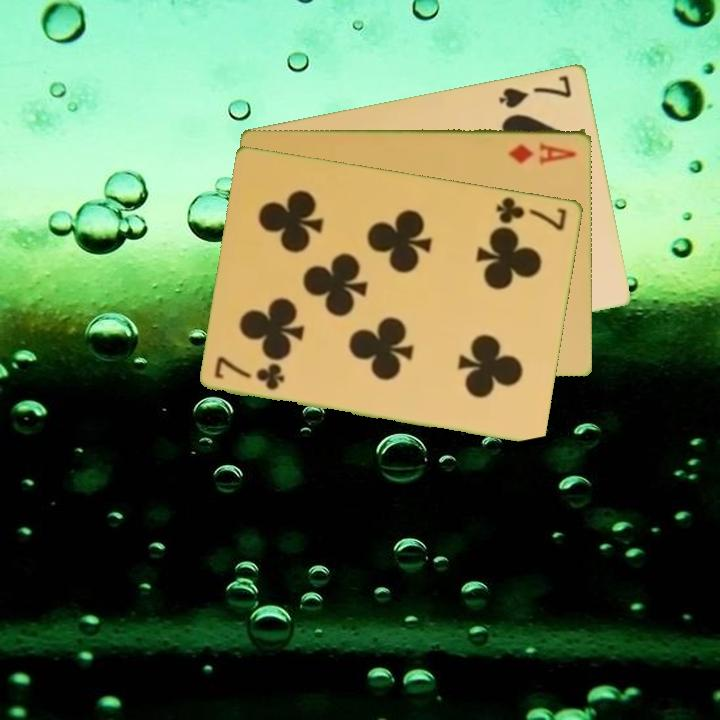7c: (493, 193, 570, 233), (211, 353, 288, 393)
7s: (495, 71, 575, 111)
Ad: (506, 138, 580, 166)
